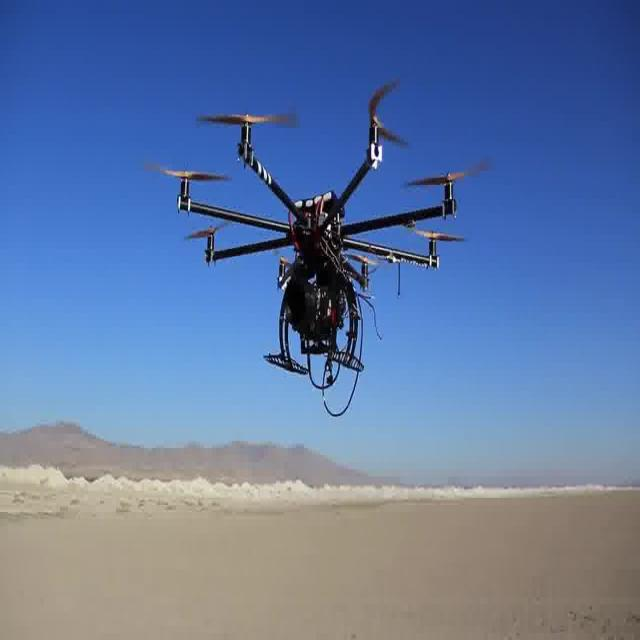drone: (144, 72, 492, 376)
